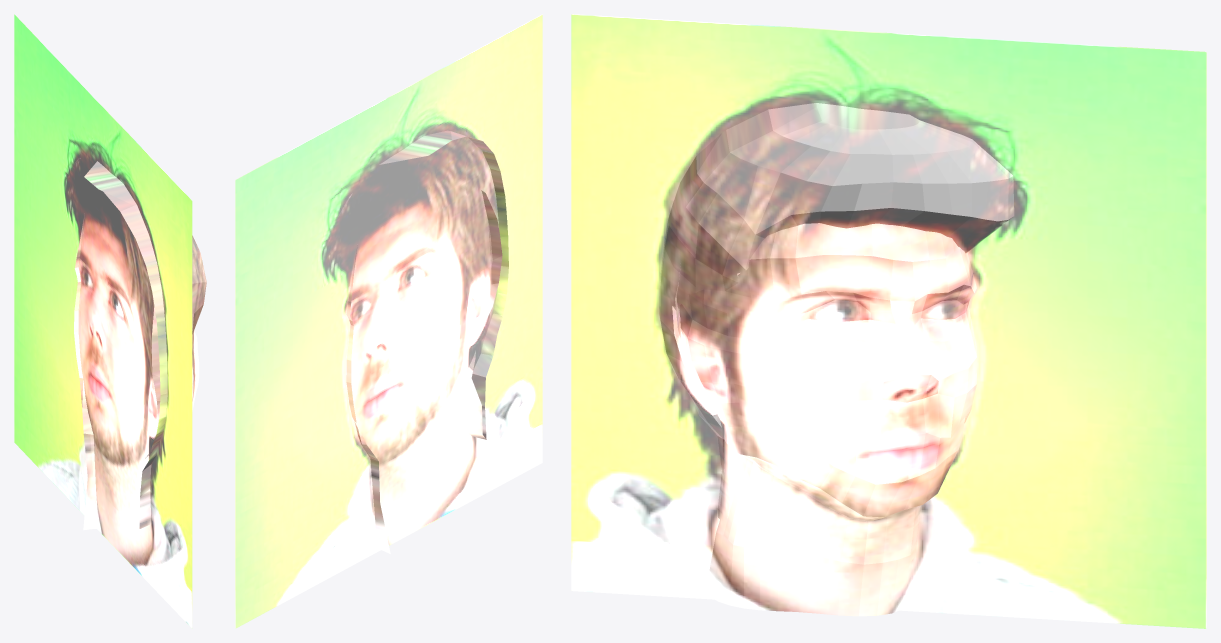
File: avatar-old.gltf
3 renders of one model, left to right at view 1: azimuth 30°, elevation 25°; view 2: azimuth 150°, elevation 25°; view 3: azimuth 270°, elevation 25°, orthographic. The views are drawn at different scales.
Visible parts, largest first — view 1: Avatar; view 2: Avatar; view 3: Avatar.
Part boxes in pixels (<box>): Avatar: <box>14,14,206,628</box>; Avatar: <box>235,14,542,628</box>; Avatar: <box>571,14,1206,628</box>.
Bounding box in the file's own units: 0.2627 × 0.9997 × 0.9974.
